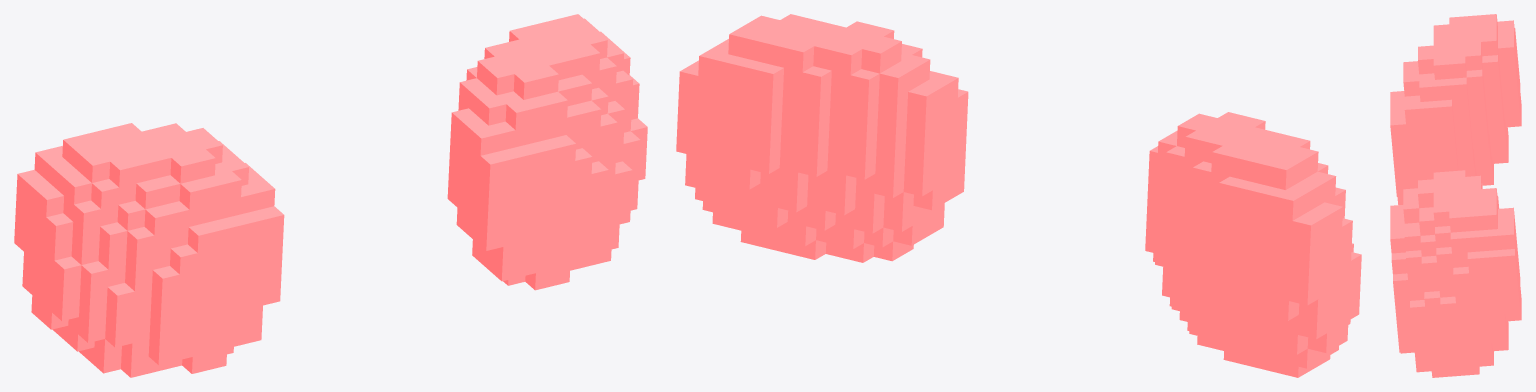
The model's file is orange-suprise.gltf.
3 views of the same model, side by side, from view 1: azimuth 30°, elevation 25°; view 2: azimuth 150°, elevation 25°; view 3: azimuth 270°, elevation 25° (orthographic). The views are drawn at different scales.
Parts seen in each view (by area): view 1: 眼睛.1; view 2: 眼睛.1; view 3: 眼睛.1.
Part boxes in pixels (left/top/right/bottom): 眼睛.1: left=14, top=14, right=647, bottom=377; 眼睛.1: left=676, top=14, right=1361, bottom=377; 眼睛.1: left=1390, top=14, right=1521, bottom=377.
Bounding box in the file's own units: 2.72 × 0.9235 × 0.6644.
